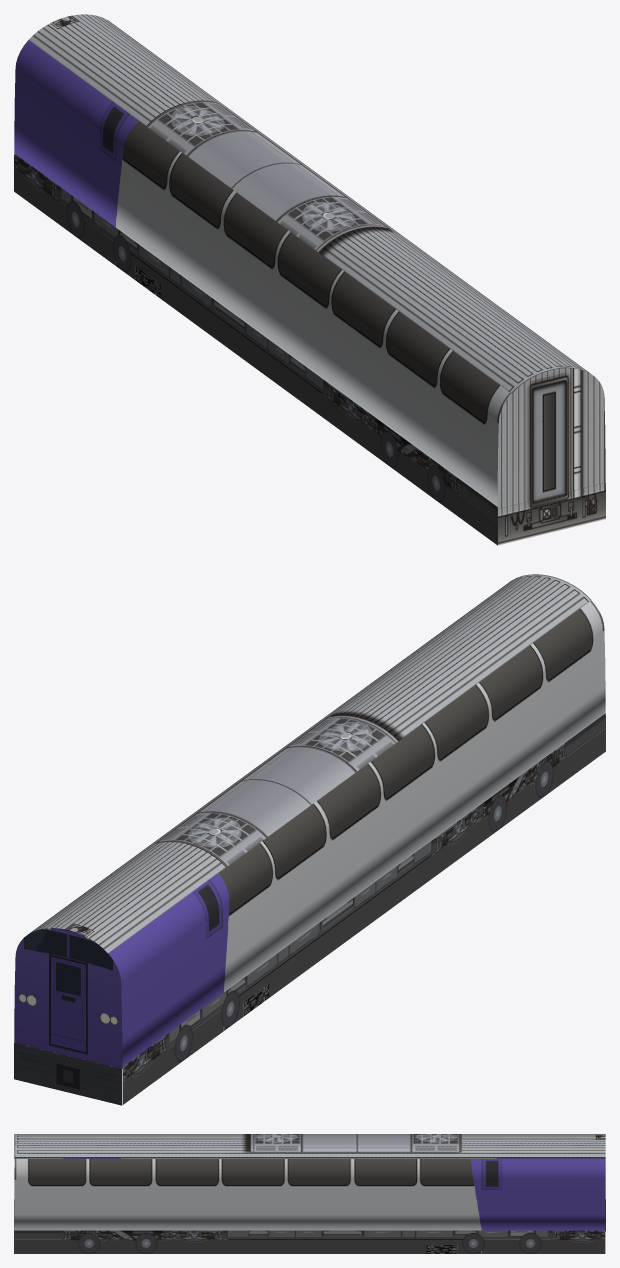
Rendered from car1.glb.
3 renders of one model, top to bottom at view 1: azimuth 30°, elevation 25°; view 2: azimuth 150°, elevation 25°; view 3: azimuth 270°, elevation 25°, orthographic. The views are drawn at different scales.
Parts seen in each view (by area): view 1: jr_hokkaido_kiha261_5000_lavender; view 2: jr_hokkaido_kiha261_5000_lavender; view 3: jr_hokkaido_kiha261_5000_lavender.
Boxes of the visible parts, <box> form: jr_hokkaido_kiha261_5000_lavender: <box>14,14,605,545</box>; jr_hokkaido_kiha261_5000_lavender: <box>14,574,605,1105</box>; jr_hokkaido_kiha261_5000_lavender: <box>14,1134,605,1253</box>.
Size of the model in its own units: 2.8 by 4.01 by 21.7.
7 materials, 6 textured.
